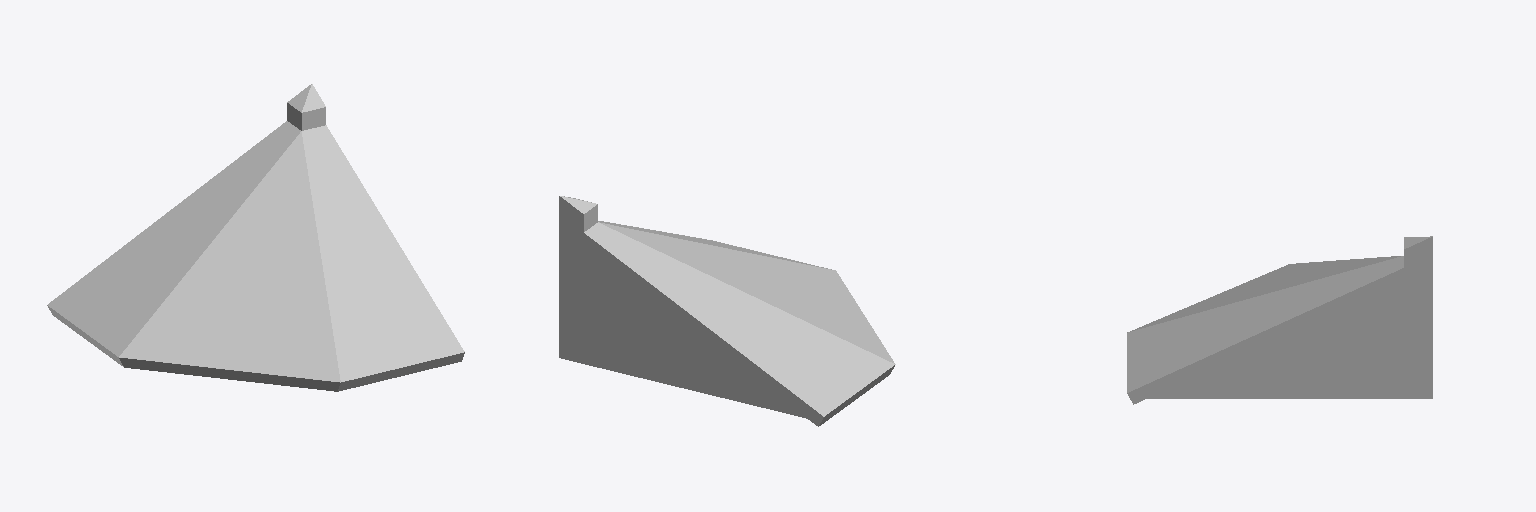
Rendered from roof-corner-round.obj.
The picture shows the model from 3 angles: view 1: azimuth 30°, elevation 25°; view 2: azimuth 150°, elevation 25°; view 3: azimuth 270°, elevation 25°; orthographic projection.
Visible parts, largest first — view 1: roof-corner-round; view 2: roof-corner-round; view 3: roof-corner-round.
Part boxes in pixels (x1,y1,x2,y2): roof-corner-round: (47, 84, 464, 391); roof-corner-round: (559, 196, 895, 426); roof-corner-round: (1127, 236, 1432, 404).
Size of the model in its own units: 1.07 by 0.6483 by 1.07.